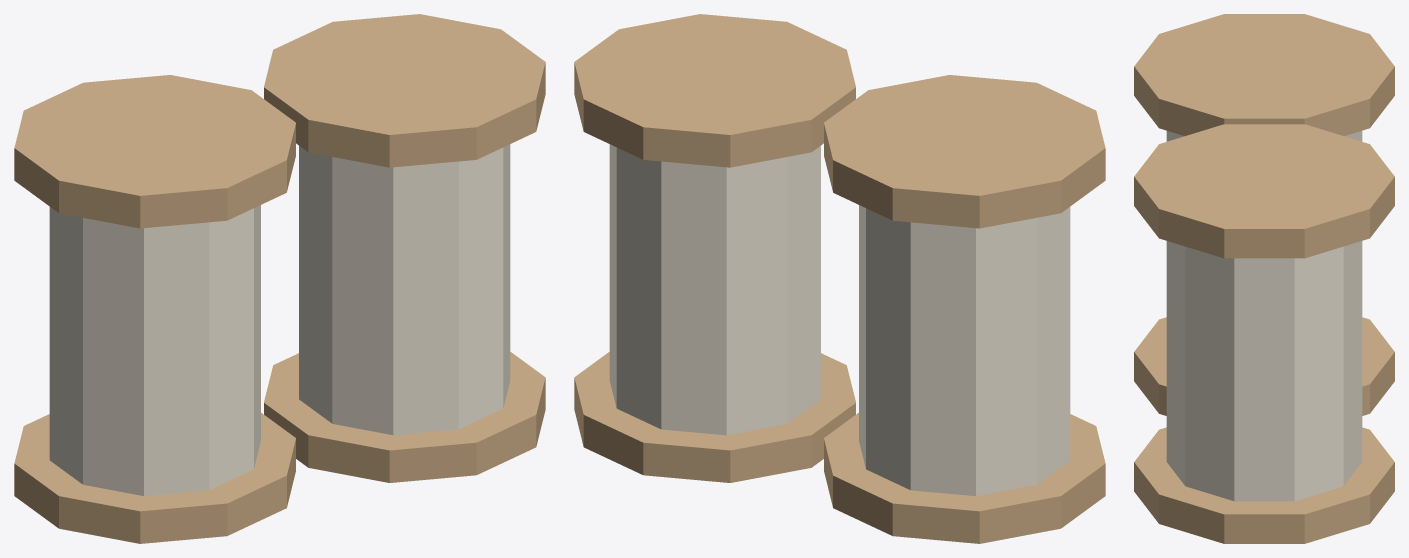
Rendered from cargo_thread.fbx.
3 views of the same model, side by side, from view 1: azimuth 30°, elevation 25°; view 2: azimuth 150°, elevation 25°; view 3: azimuth 270°, elevation 25° (orthographic). The views are drawn at different scales.
Parts seen in each view (by area): view 1: cargo_thread_mesh; view 2: cargo_thread_mesh; view 3: cargo_thread_mesh.
Part boxes in pixels (left/top/right/bottom): cargo_thread_mesh: left=14, top=14, right=545, bottom=543; cargo_thread_mesh: left=574, top=14, right=1105, bottom=543; cargo_thread_mesh: left=1134, top=14, right=1394, bottom=543.
Size of the model in its own units: 0.4683 by 0.32 by 0.24.
